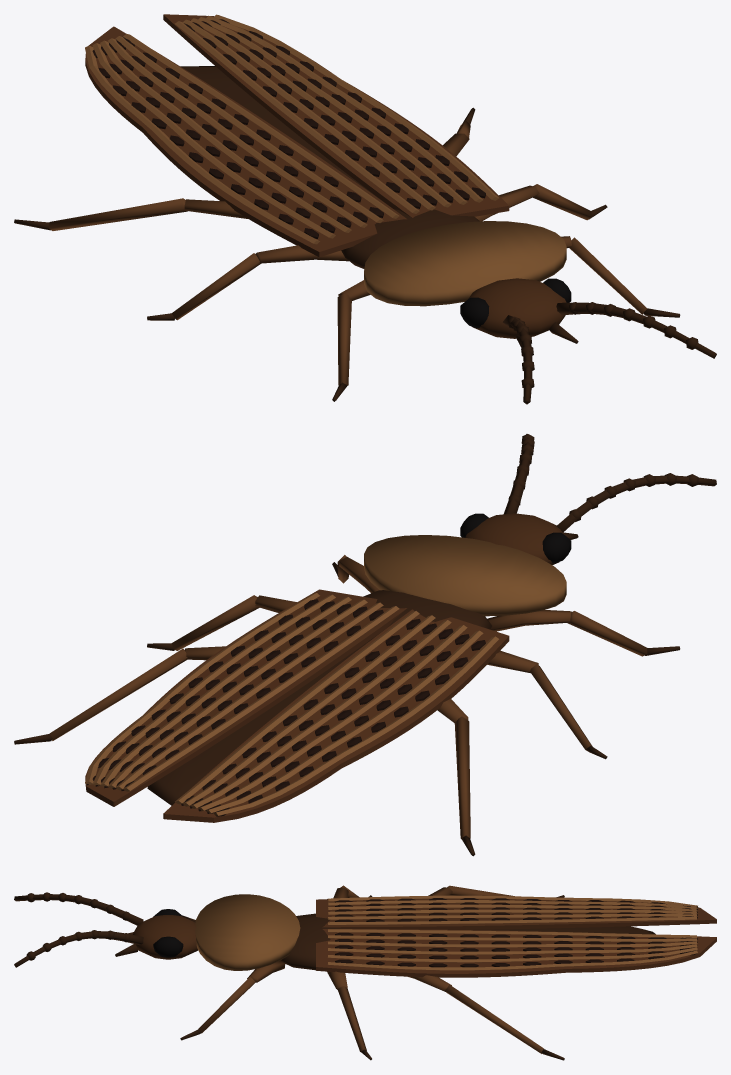
The model's file is Tshekardocoleus.fbx.
3 renders of one model, top to bottom at view 1: azimuth 30°, elevation 25°; view 2: azimuth 150°, elevation 25°; view 3: azimuth 270°, elevation 25°, orthographic. The views are drawn at different scales.
Parts seen in each view (by area): view 1: Tshekardocoleus; view 2: Tshekardocoleus; view 3: Tshekardocoleus.
Part boxes in pixels (x1,y1,x2,y2): Tshekardocoleus: [14, 14, 716, 404]; Tshekardocoleus: [14, 434, 716, 856]; Tshekardocoleus: [14, 885, 716, 1060].
Size of the model in its own units: 0.7345 by 0.1415 by 1.33.
